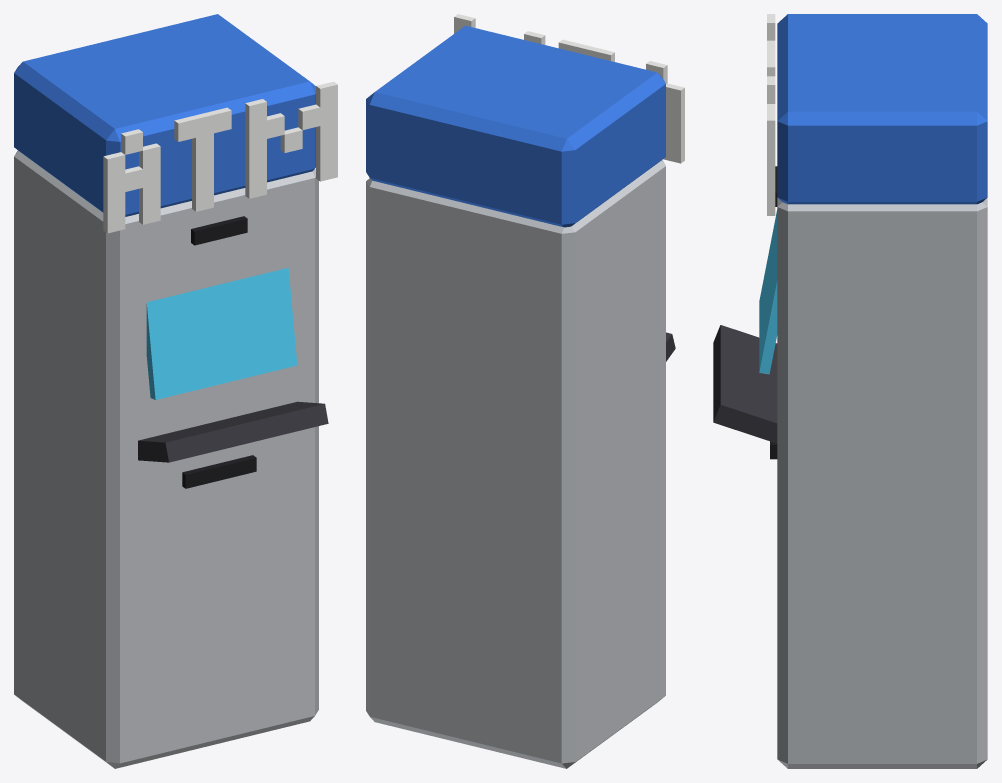
File: BankATM.fbx
3 renders of one model, left to right at view 1: azimuth 30°, elevation 25°; view 2: azimuth 150°, elevation 25°; view 3: azimuth 270°, elevation 25°, orthographic. The views are drawn at different scales.
Visible parts, largest first — view 1: BankATM; view 2: BankATM; view 3: BankATM.
Part boxes in pixels (x1,y1,x2,y2): BankATM: (14,14,337,768); BankATM: (366,14,684,768); BankATM: (713,14,987,768).
Bounding box in the file's own units: 2.6 × 6.9 × 2.61.
Materials: 1 (1 with a texture image).
